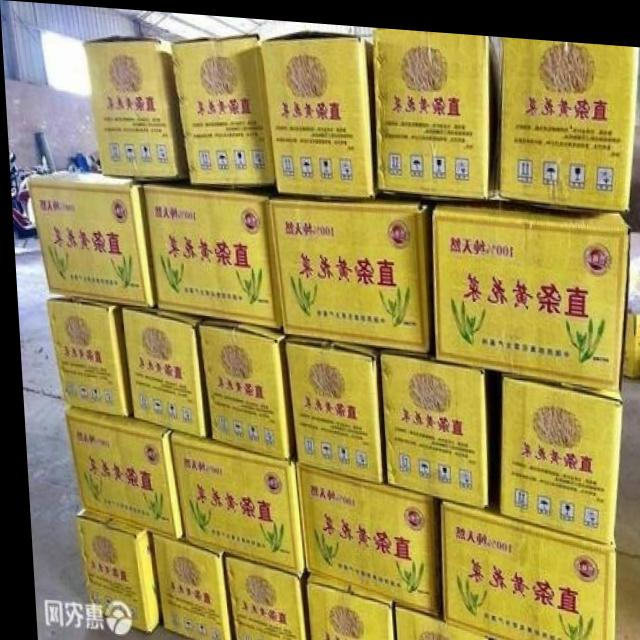box: (429, 189, 627, 385), (269, 185, 429, 348), (435, 492, 610, 640), (494, 29, 640, 205), (288, 456, 435, 614), (372, 22, 503, 192), (492, 364, 618, 536), (139, 175, 280, 328), (260, 25, 375, 194), (166, 430, 297, 574), (25, 170, 152, 307), (376, 342, 485, 499), (170, 27, 274, 183), (60, 405, 178, 538), (82, 32, 186, 180), (281, 330, 381, 480), (194, 313, 288, 456), (118, 303, 206, 439), (70, 508, 153, 633), (43, 295, 128, 416), (142, 529, 227, 640), (218, 552, 301, 640), (297, 570, 388, 640), (385, 599, 485, 640), (620, 300, 640, 369)
